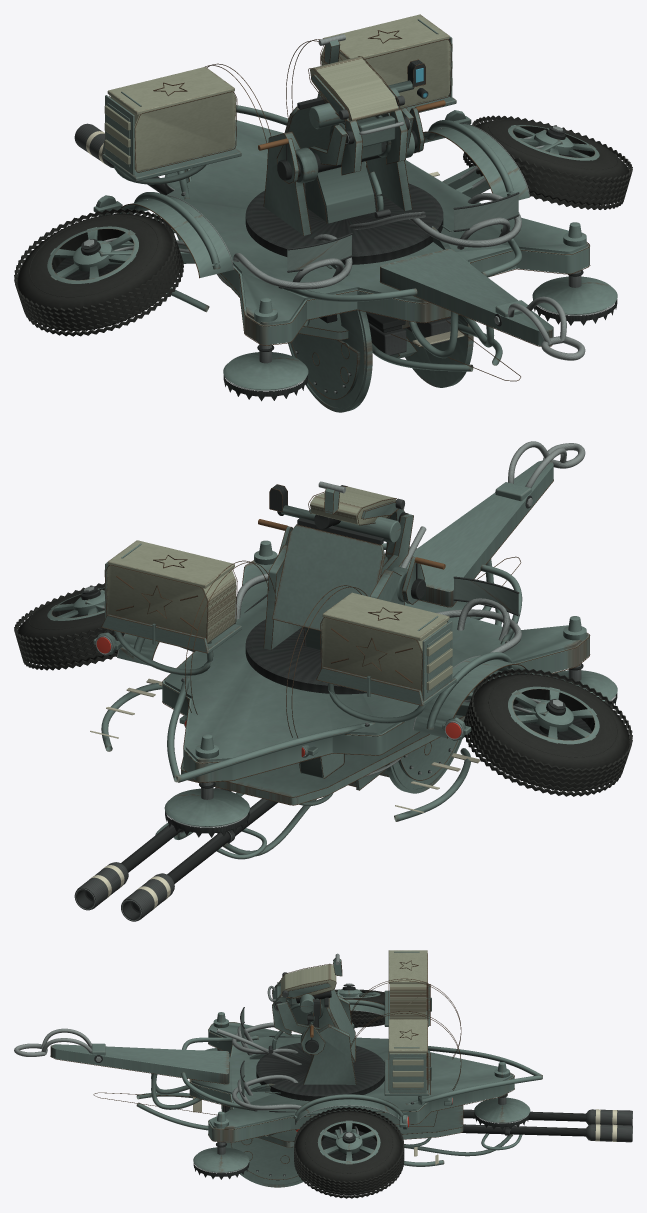
3 views of the same model, one above another, from view 1: azimuth 30°, elevation 25°; view 2: azimuth 150°, elevation 25°; view 3: azimuth 270°, elevation 25° (orthographic). The views are drawn at different scales.
Parts seen in each view (by area): view 1: body|Olive_enamel, turret|Olive_enamel, body|Tire_rubber, turret|Faded_olive, body|Dark_steel, cradle|Olive_enamel, turret|Oxide, turret|Edge_steel, body|Edge_steel, turret|Seat_back, cradle|Blued_steel, turret|Dark_steel (+3 smaller); view 2: body|Olive_enamel, turret|Olive_enamel, turret|Faded_olive, body|Tire_rubber, body|Dark_steel, turret|Oxide, cradle|Blued_steel, cradle|Olive_enamel, body|Edge_steel, turret|Edge_steel, turret|Dark_steel, turret|Seat_back (+2 smaller); view 3: body|Olive_enamel, turret|Olive_enamel, body|Tire_rubber, turret|Faded_olive, body|Dark_steel, cradle|Olive_enamel, cradle|Blued_steel, turret|Oxide, turret|Edge_steel, body|Edge_steel, body|Oxide, turret|Dark_steel (+1 smaller).
Boxes of the visible parts, <box> form: body|Olive_enamel: <box>47,105,617,390</box>; turret|Olive_enamel: <box>101,19,502,371</box>; body|Tire_rubber: <box>14,115,632,336</box>; turret|Faded_olive: <box>104,14,452,171</box>; body|Dark_steel: <box>55,126,617,401</box>; cradle|Olive_enamel: <box>155,214,473,412</box>; turret|Oxide: <box>101,30,520,381</box>; turret|Edge_steel: <box>217,34,521,289</box>; body|Edge_steel: <box>84,112,615,391</box>; turret|Seat_back: <box>287,194,518,270</box>; cradle|Blued_steel: <box>74,123,450,355</box>; turret|Dark_steel: <box>277,60,519,272</box>; body|Olive_enamel: <box>47,460,617,826</box>; turret|Olive_enamel: <box>101,488,501,821</box>; turret|Faded_olive: <box>104,486,452,695</box>; body|Tire_rubber: <box>14,583,632,796</box>; body|Dark_steel: <box>70,495,617,837</box>; turret|Oxide: <box>101,484,521,805</box>; cradle|Blued_steel: <box>74,787,277,921</box>; cradle|Olive_enamel: <box>155,737,462,859</box>; body|Edge_steel: <box>84,441,615,827</box>; turret|Edge_steel: <box>235,481,521,777</box>; turret|Dark_steel: <box>270,484,519,615</box>; turret|Seat_back: <box>454,578,518,614</box>; body|Olive_enamel: <box>50,989,542,1172</box>; turret|Olive_enamel: <box>136,951,463,1166</box>; body|Tire_rubber: <box>294,989,404,1198</box>; turret|Faded_olive: <box>281,950,427,1087</box>; body|Dark_steel: <box>94,984,529,1179</box>; cradle|Olive_enamel: <box>221,1054,522,1187</box>; cradle|Blued_steel: <box>222,1105,632,1142</box>; turret|Oxide: <box>93,953,463,1147</box>; turret|Edge_steel: <box>232,953,339,1110</box>; body|Edge_steel: <box>14,983,528,1173</box>; body|Oxide: <box>50,999,514,1142</box>; turret|Dark_steel: <box>240,984,331,1132</box>.
Size of the model in its own units: 3.58 by 1.86 by 4.89.
26 materials, 22 textured.
